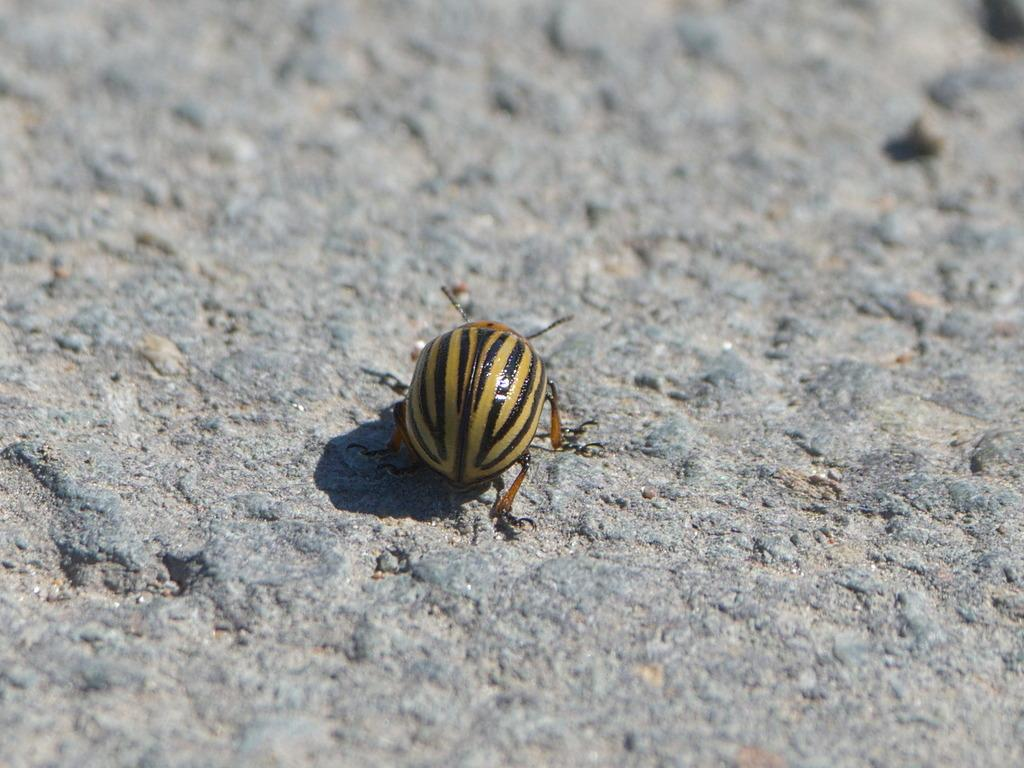potato_beetle: (324, 264, 617, 553)
